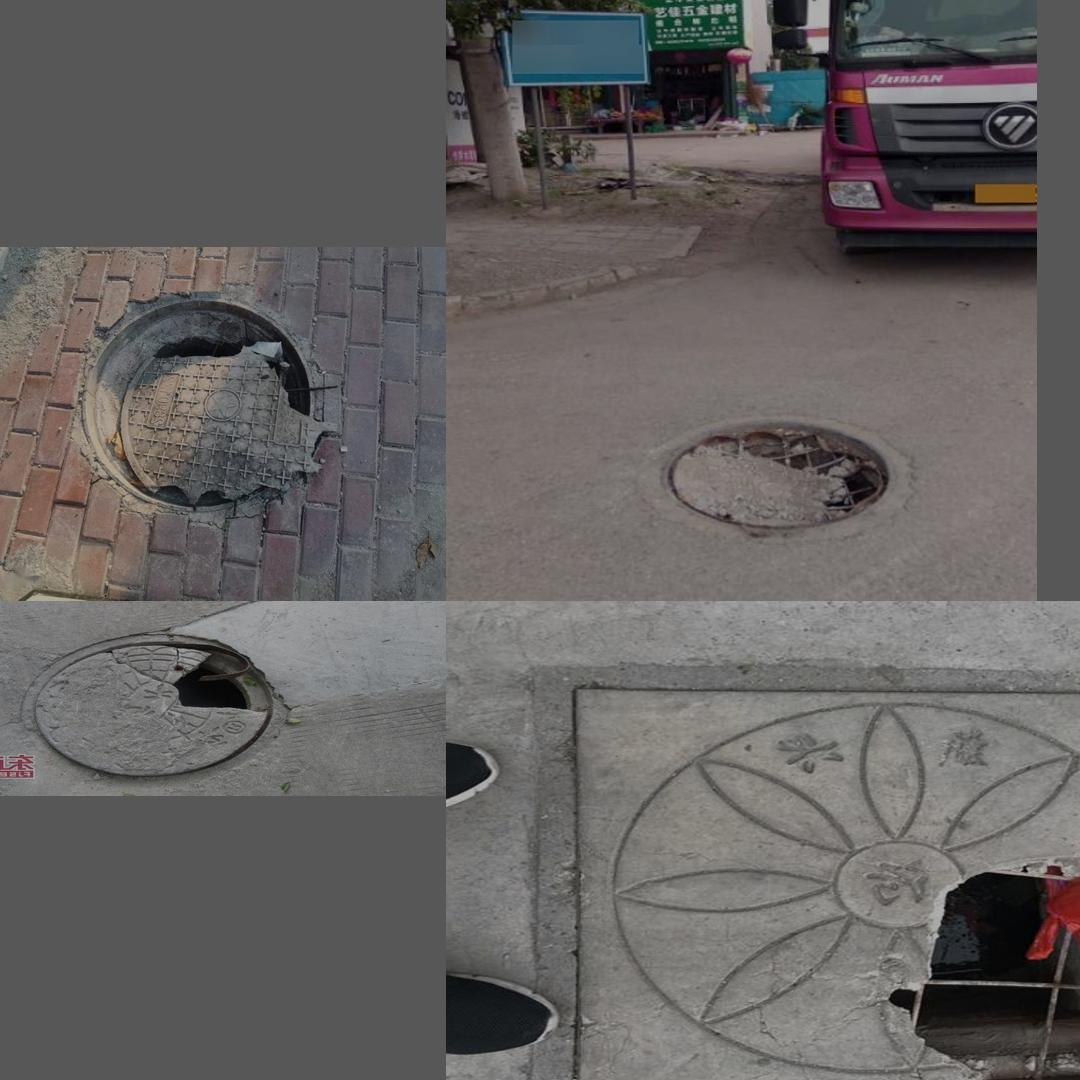broke: (518, 649, 1080, 1080), (67, 286, 336, 522), (15, 628, 294, 784), (637, 412, 908, 541)
